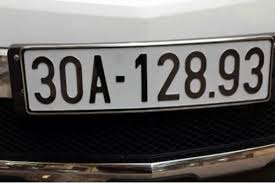number-plate: (21, 44, 270, 105)
